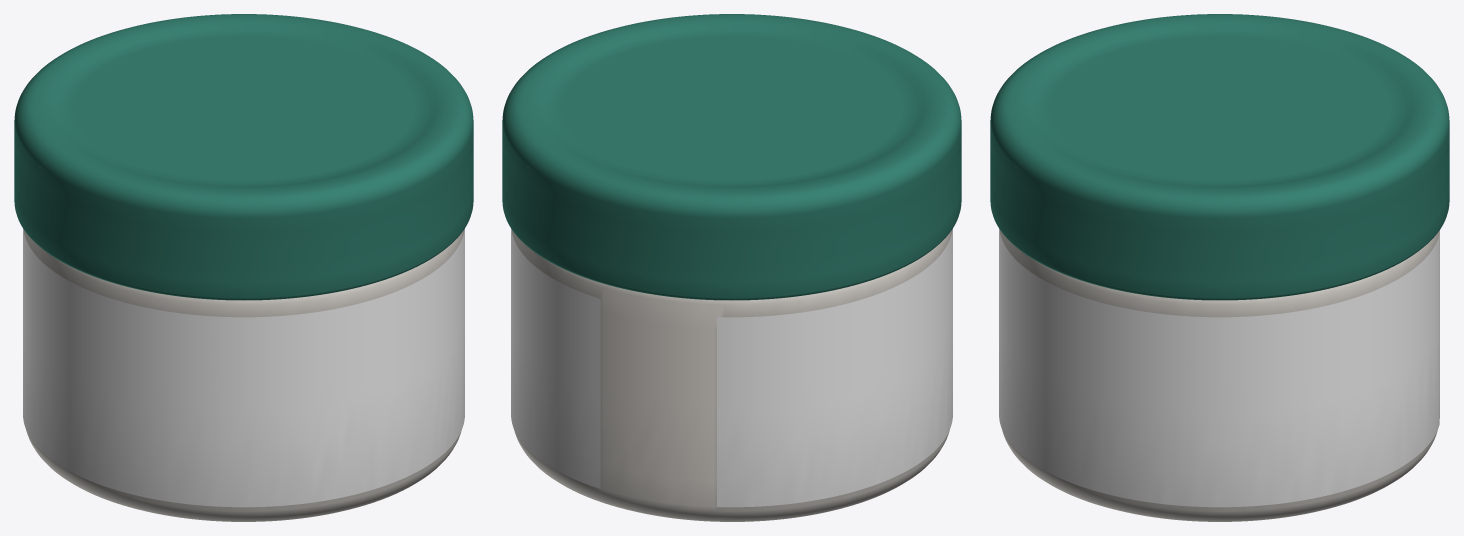
Rendered from terre-verte.glb.
3 views of the same model, side by side, from view 1: azimuth 30°, elevation 25°; view 2: azimuth 150°, elevation 25°; view 3: azimuth 270°, elevation 25° (orthographic).
Parts seen in each view (by area): view 1: couvercle, etiquette, corps; view 2: couvercle, etiquette, corps; view 3: couvercle, etiquette, corps.
Boxes of the visible parts, bbox=[...] form: couvercle: bbox=[14, 14, 473, 300]; etiquette: bbox=[23, 229, 464, 507]; corps: bbox=[24, 230, 463, 521]; couvercle: bbox=[502, 14, 961, 300]; etiquette: bbox=[511, 229, 952, 507]; corps: bbox=[512, 230, 951, 521]; couvercle: bbox=[990, 14, 1449, 300]; etiquette: bbox=[999, 229, 1439, 507]; corps: bbox=[1000, 230, 1439, 521].
Size of the model in its own units: 0.876 by 0.7 by 0.876.
